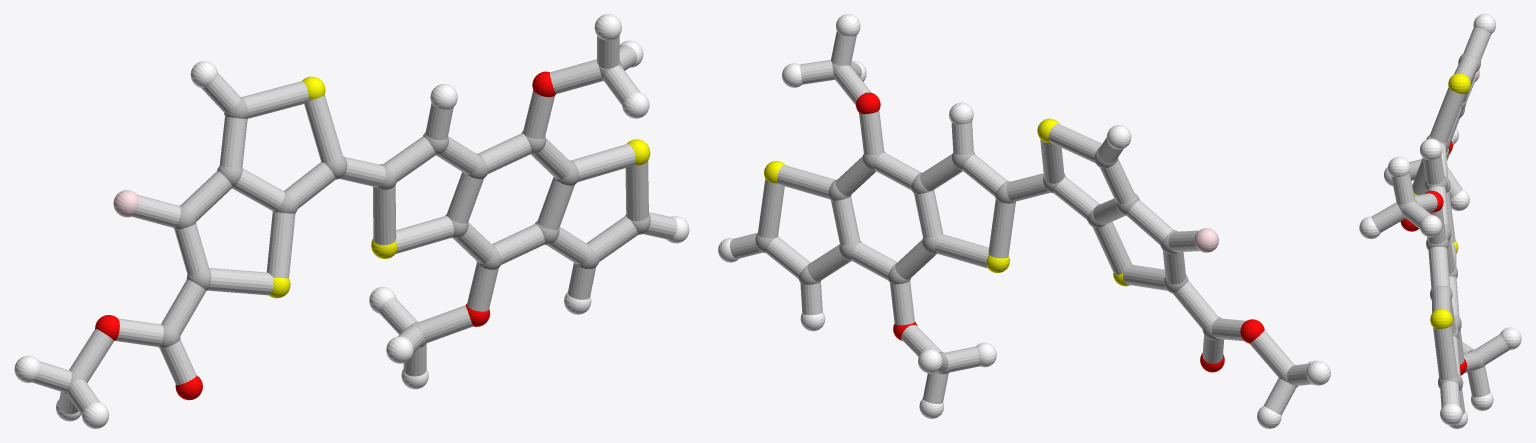
File: Dimethoxy_Benzodithiophene_Phi_20_Theta_20_Methylcarbonyl_3_Fluoro_Thienothiophene.glb
3 renders of one model, left to right at view 1: azimuth 30°, elevation 25°; view 2: azimuth 150°, elevation 25°; view 3: azimuth 270°, elevation 25°, orthographic. The views are drawn at different scales.
Parts seen in each view (by area): view 1: grp15205, grp8689, grp1, grp13395, grp7241; view 2: grp15205, grp8689, grp1, grp13395, grp7241; view 3: grp15205, grp8689, grp1, grp7241, grp13395.
Boxes of the visible parts, x1,y1,x2,y2 form: grp15205: (32,35,677,414); grp8689: (14,14,689,428); grp1: (63,61,650,395); grp13395: (95,71,555,400); grp7241: (269,76,650,298); grp15205: (730,31,1312,415); grp8689: (718,14,1330,428); grp1: (755,62,1297,386); grp13395: (856,92,1264,372); grp7241: (764,118,1133,286); grp15205: (1371,27,1509,414); grp8689: (1359,14,1521,428); grp1: (1397,53,1484,390); grp7241: (1414,73,1470,328); grp13395: (1400,140,1466,375).
Size of the model in its own units: 17 by 9.06 by 4.29.
